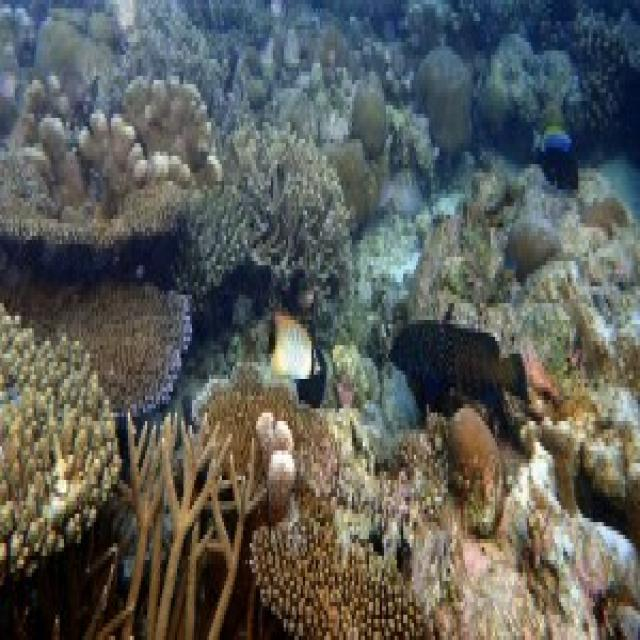Bleached: (3, 305, 121, 570), (224, 1, 354, 145), (385, 502, 518, 640), (359, 184, 465, 310), (233, 123, 351, 232), (457, 280, 572, 368), (565, 224, 640, 345), (337, 347, 384, 536), (488, 34, 580, 106), (124, 76, 220, 137), (587, 384, 640, 489), (553, 519, 640, 573), (389, 109, 439, 173), (257, 408, 296, 488), (129, 143, 196, 189), (508, 451, 557, 511), (558, 578, 592, 640), (79, 113, 138, 145), (522, 413, 581, 440), (199, 140, 225, 179), (1, 145, 47, 163), (50, 72, 70, 111), (42, 115, 70, 140), (28, 82, 45, 93)
Healthy: (122, 413, 257, 640), (246, 506, 434, 640), (24, 276, 196, 414), (1, 127, 195, 241), (193, 178, 335, 300), (209, 379, 338, 508), (389, 414, 501, 512), (569, 320, 640, 392), (519, 519, 566, 622), (419, 78, 478, 159), (478, 94, 542, 163), (131, 95, 206, 138), (554, 438, 596, 512), (510, 222, 563, 279), (343, 155, 381, 232), (354, 94, 389, 161), (580, 197, 628, 242)
